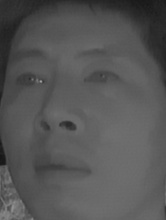eye: (14, 68, 48, 92), (82, 67, 122, 87)
mouth: (30, 150, 94, 189)
